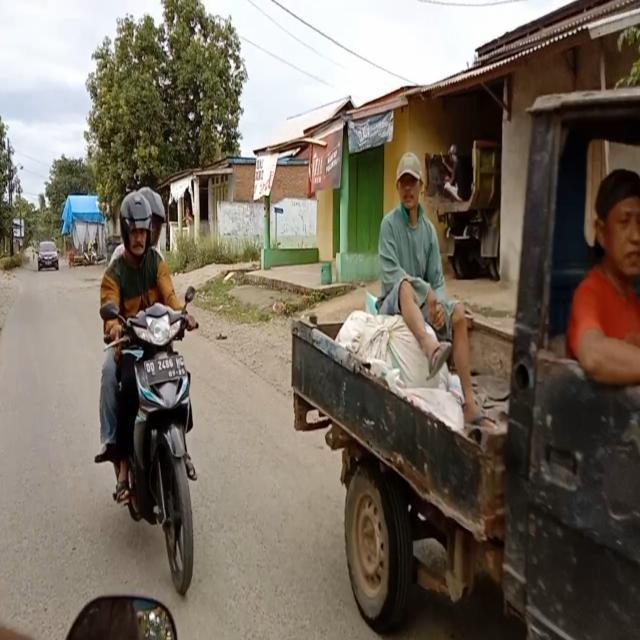motorcycle: (88, 174, 208, 598)
